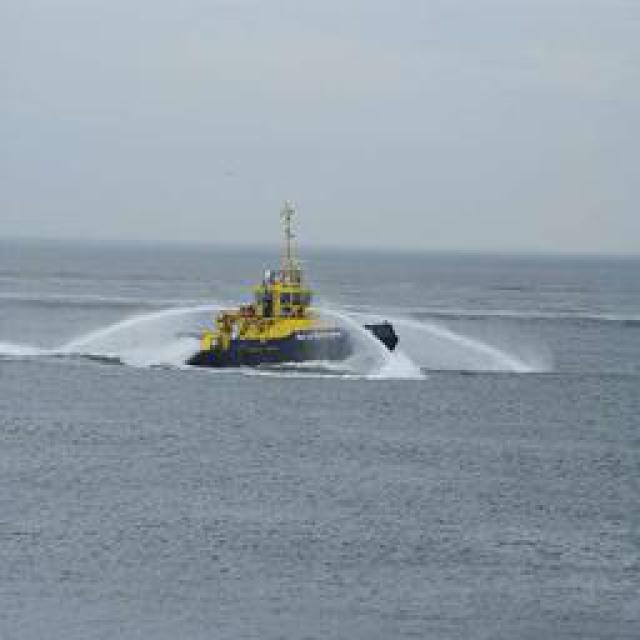Ship: (191, 204, 414, 377)
